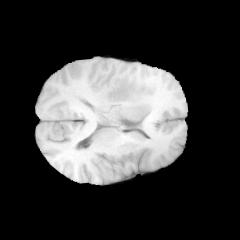glioma: (105, 85, 151, 122)
